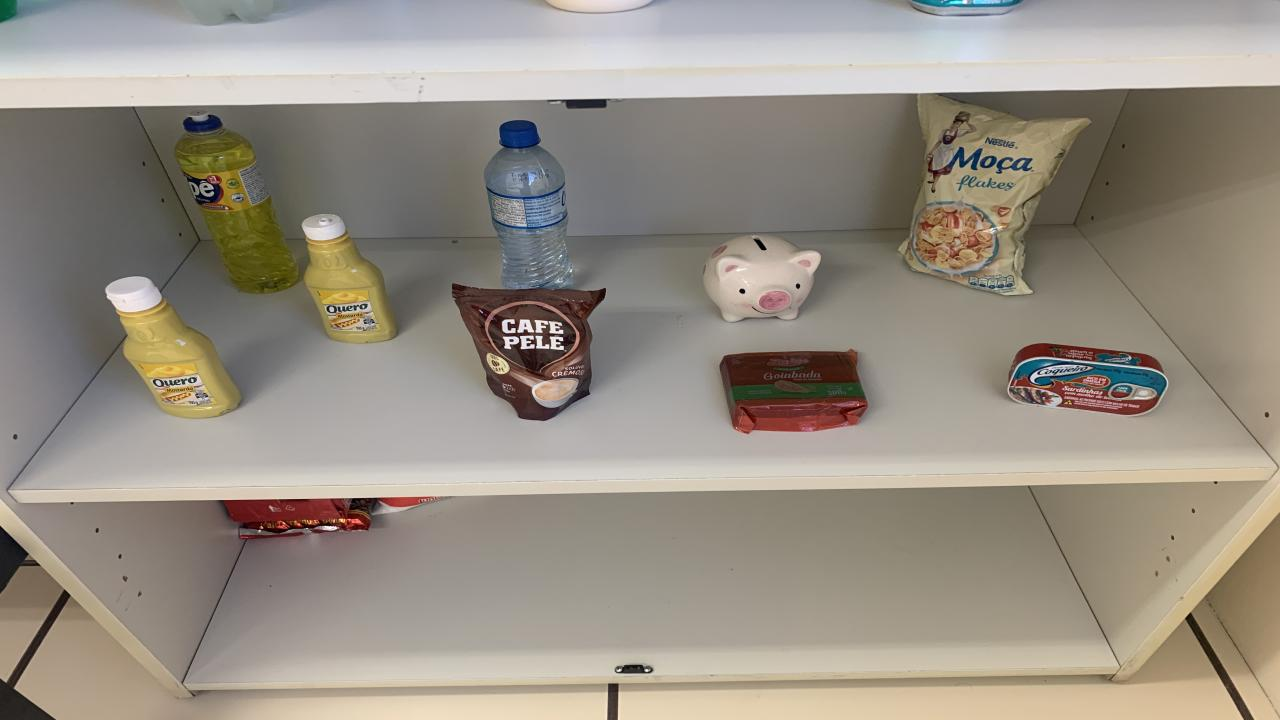Coffee-Pantry_Items: (452, 285, 605, 420)
Detergent-Cleanup_Items: (175, 114, 300, 292)
Flakes-Snacks: (898, 94, 1090, 296)
Guava-Snacks: (720, 349, 868, 433)
Mayonnaise-Pantry_Items: (548, 0, 652, 13)
Mustard-Pantry_Items: (105, 278, 240, 418), (302, 214, 398, 343)
Pig_Safe-Miscellaneous: (702, 234, 820, 322)
Soda-Drinks: (178, 0, 288, 26)
Tea-Drinks: (910, 0, 1022, 15)
Tuna_Can-Pantry_Items: (1008, 343, 1170, 416)
Water_Bottle-Drinks: (485, 122, 572, 289)
